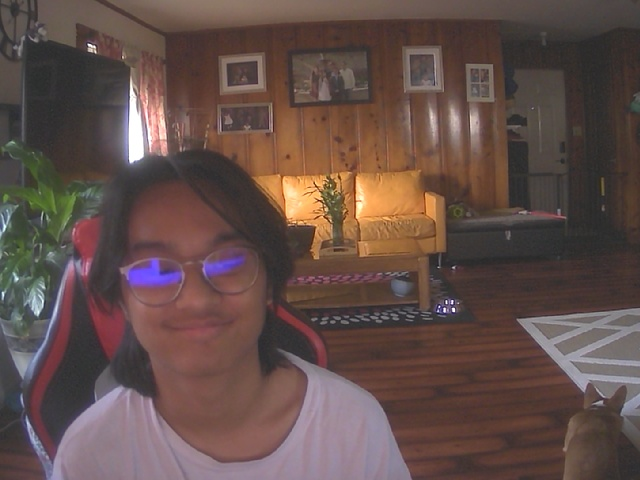happy: (113, 158, 279, 378)
